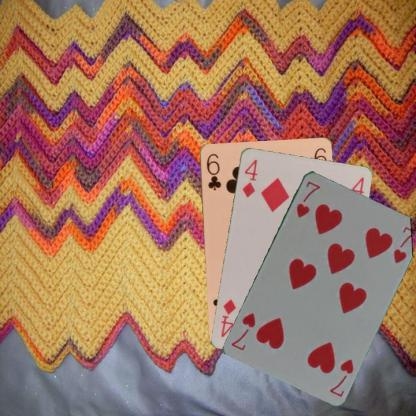4d: (239, 157, 259, 198)
6c: (204, 151, 222, 192)
7h: (326, 356, 355, 397), (294, 178, 321, 219)
